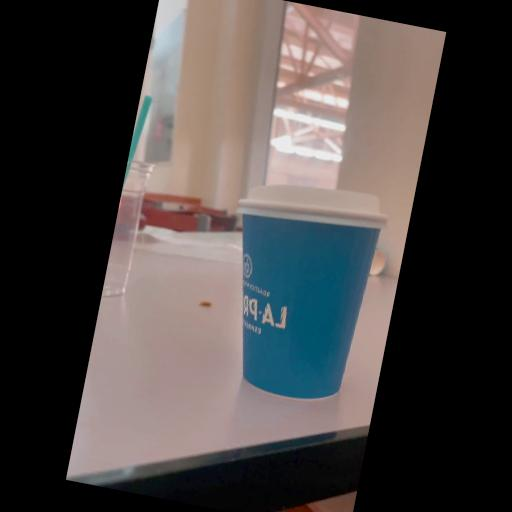lp_paper_cup: (204, 170, 392, 409)
lp_plastic_cup: (101, 158, 154, 302)
